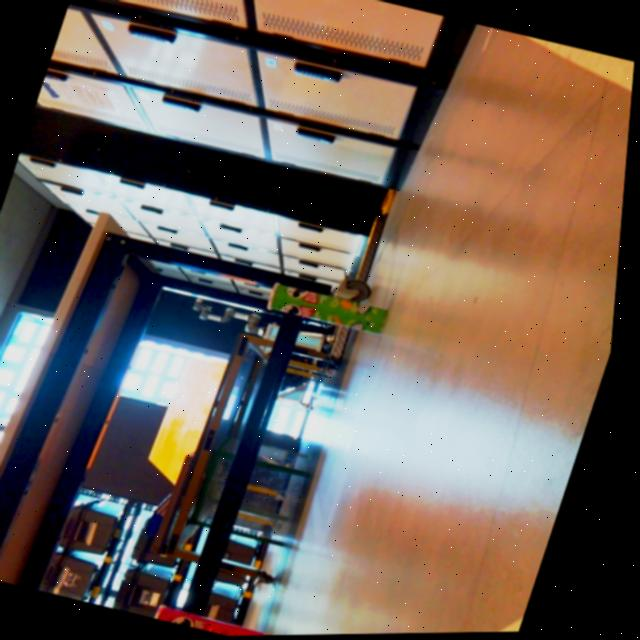greenpringles: (234, 262, 407, 351)
redpringles: (157, 593, 319, 638)
